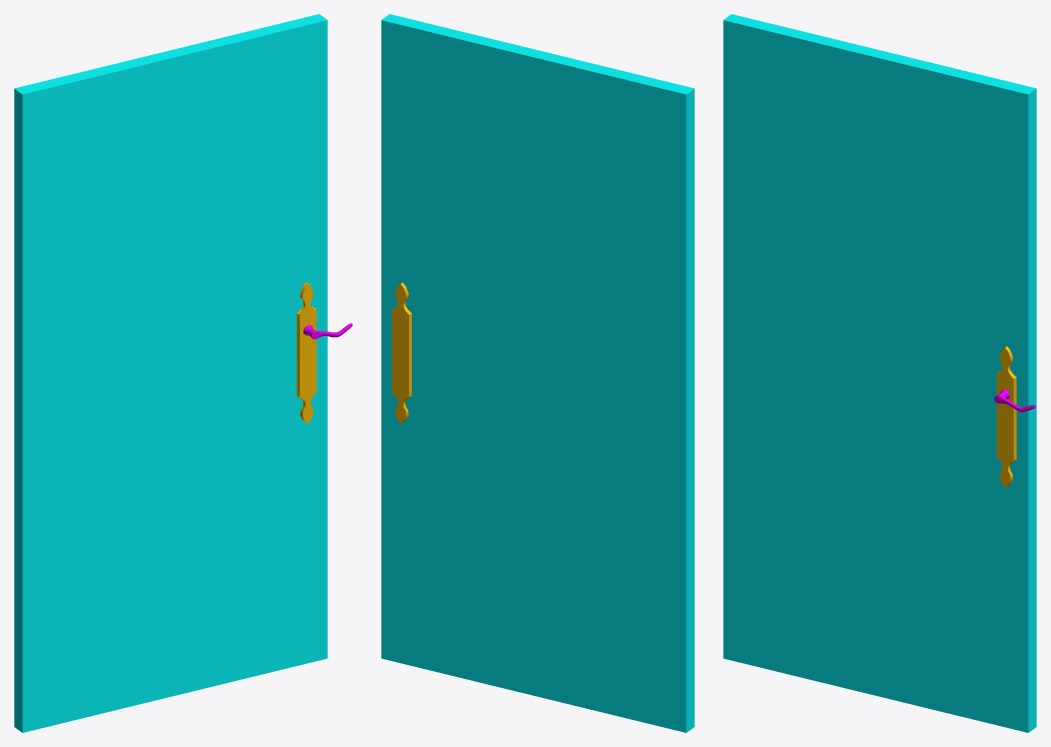
File: Door.FBX
The picture shows the model from 3 angles, left to right: view 1: azimuth 30°, elevation 25°; view 2: azimuth 150°, elevation 25°; view 3: azimuth 330°, elevation 25°; orthographic projection.
Parts seen in each view (by area): view 1: door; view 2: door; view 3: door.
Boxes of the visible parts, bbox=[...] form: door: bbox=[14, 14, 327, 732]; door: bbox=[381, 14, 694, 732]; door: bbox=[723, 14, 1036, 732].
Size of the model in its own units: 105 by 11.34 by 200.
